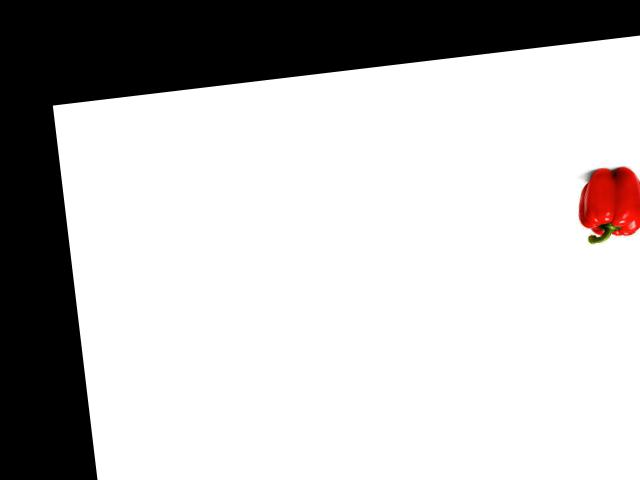bell_pepper: (573, 162, 640, 246)
